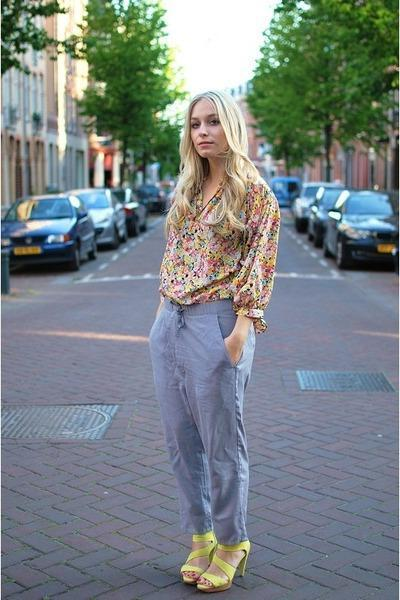long sleeve shirt: (153, 170, 287, 327)
trousers: (142, 296, 262, 545)
